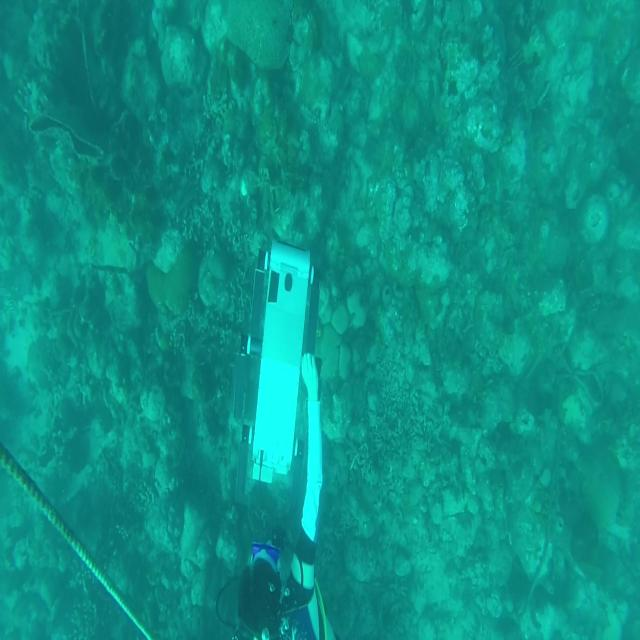human: (215, 351, 337, 638)
